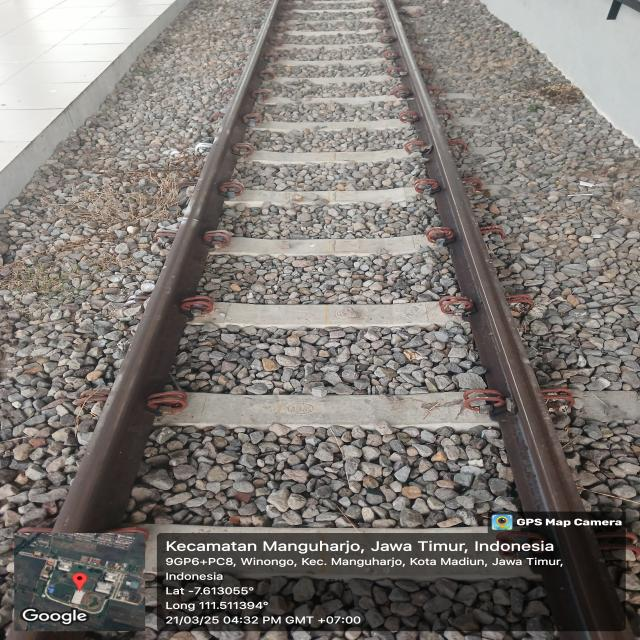rail-detection: (385, 0, 629, 640), (54, 0, 281, 533)
